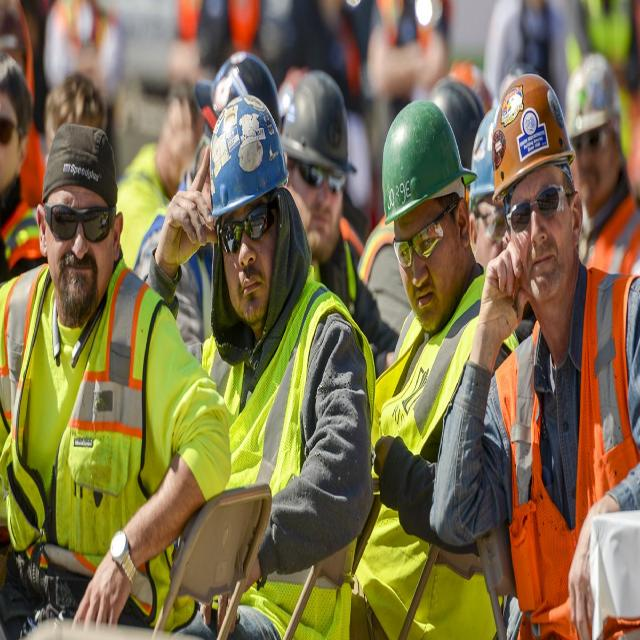Reflective-Jacket: (1, 260, 179, 628), (205, 280, 368, 639), (494, 269, 640, 640), (358, 278, 496, 640)
Safety-Helmet: (377, 90, 478, 228), (490, 65, 576, 198), (207, 88, 290, 222), (278, 62, 358, 187), (564, 52, 626, 141)
